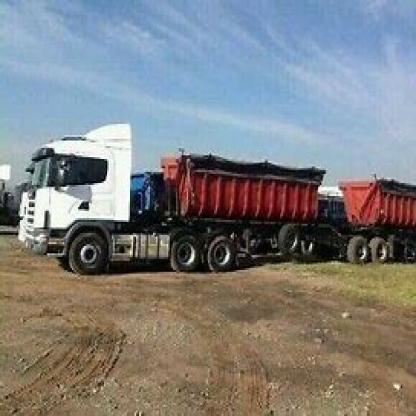dump_truck: (14, 102, 414, 290)
